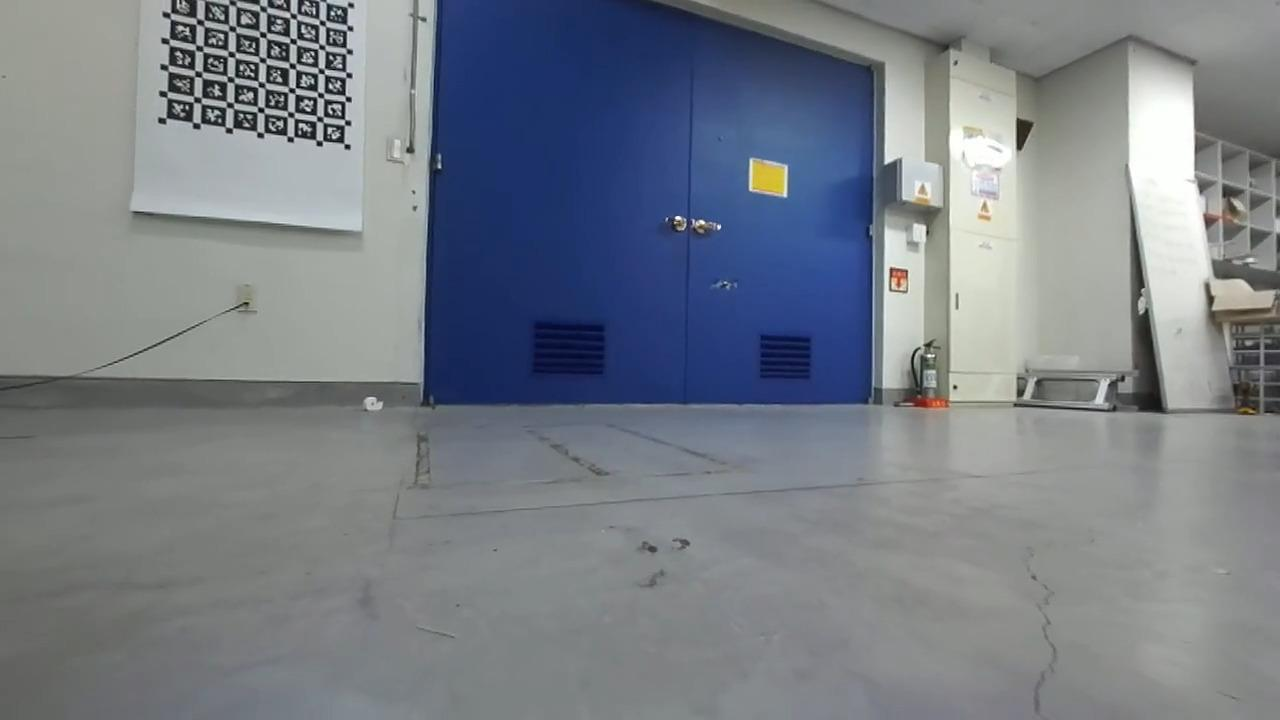crazyflie: (704, 272, 744, 294)
